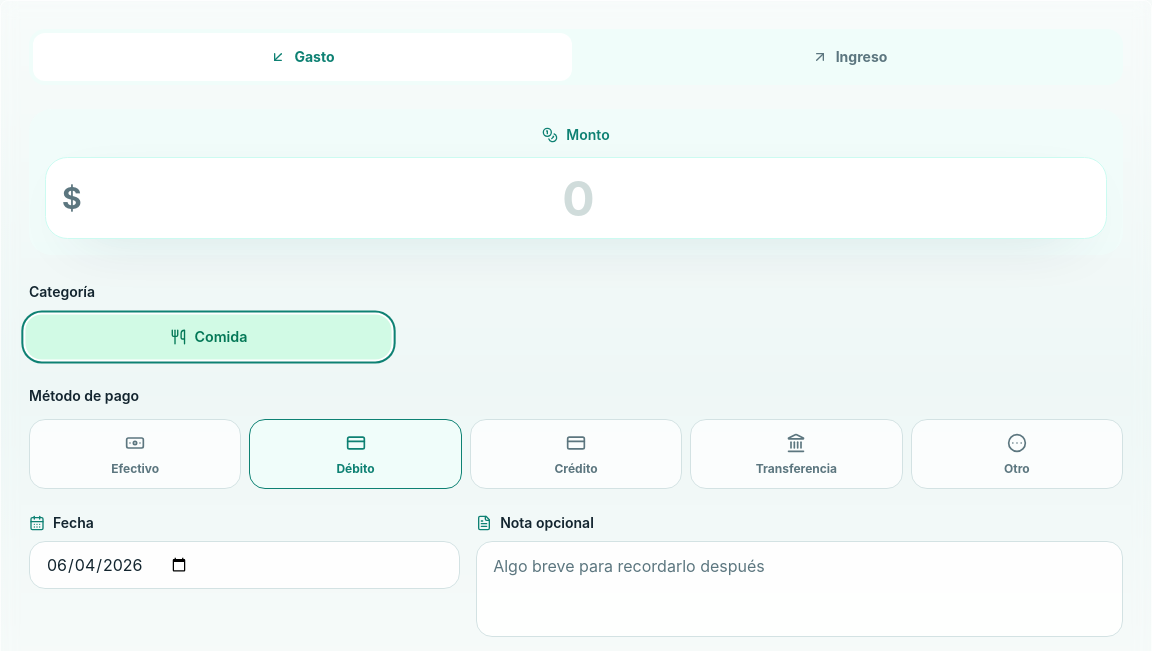
Test case: TransactionForm credit cards › muestra selector de tarjeta solo cuando el método es crédito
The width and height of the screenshot is (1152, 651).
Expected: the text "Tarjeta de crédito" is not shown
Click the radio button labelled "Crédito" at (576, 454), box [470,419,682,489]
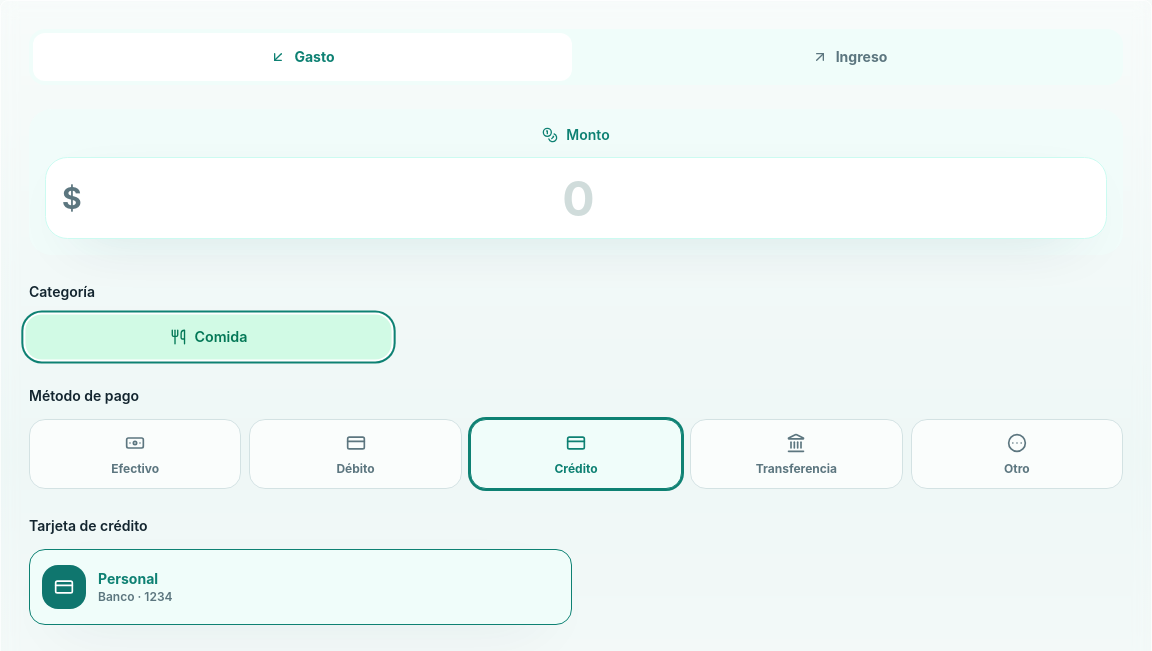
Expected: the text "Tarjeta de crédito" is shown, [29,517,148,534]
Expected: the text "Personal" is shown, [98,570,158,587]
Click the radio button labelled "Débito" at (356, 454), box [249,419,462,489]
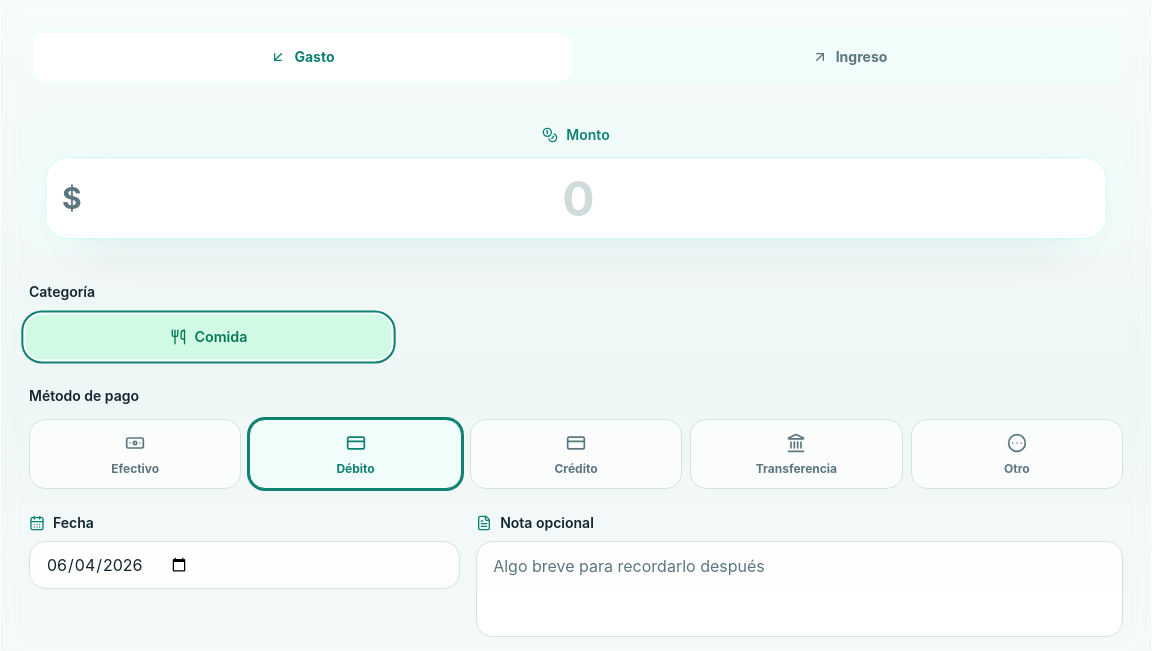
Expected: the text "Tarjeta de crédito" is gone
